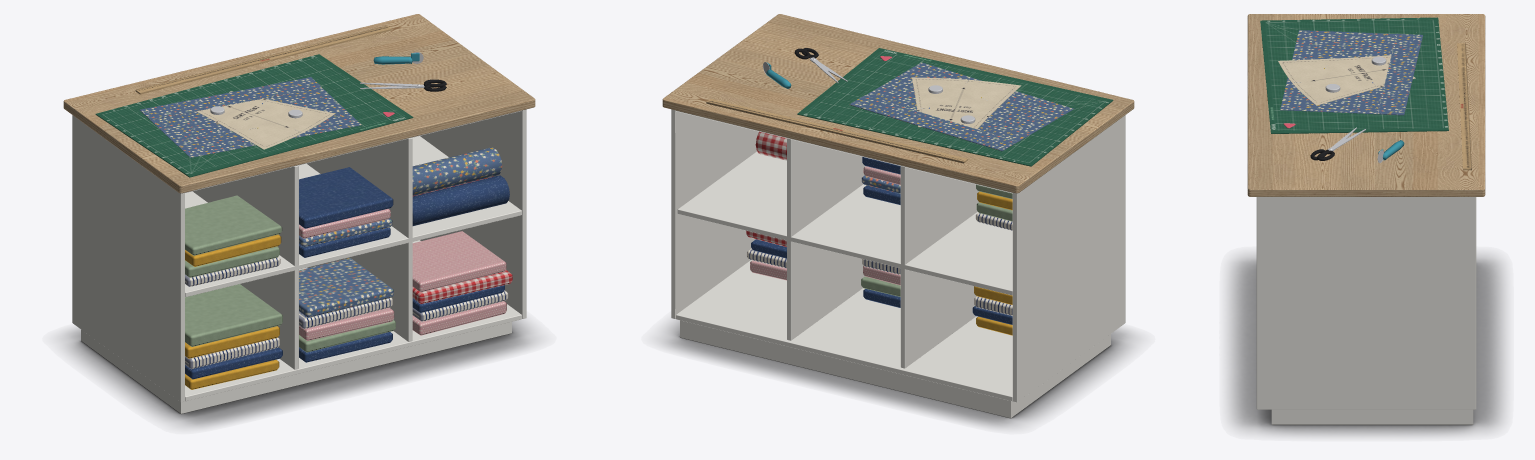
File: cutting_table.glb
The picture shows the model from 3 angles, left to right: view 1: azimuth 30°, elevation 25°; view 2: azimuth 150°, elevation 25°; view 3: azimuth 270°, elevation 25°; orthographic projection.
Visible parts, largest first — view 1: cutting_table_LOD0, cutting_table_Shadow; view 2: cutting_table_LOD0, cutting_table_Shadow; view 3: cutting_table_LOD0, cutting_table_Shadow.
Boxes of the visible parts, bbox=[...] form: cutting_table_LOD0: bbox=[63, 14, 535, 413]; cutting_table_Shadow: bbox=[63, 320, 535, 426]; cutting_table_LOD0: bbox=[662, 14, 1134, 418]; cutting_table_Shadow: bbox=[662, 320, 1133, 427]; cutting_table_LOD0: bbox=[1247, 14, 1485, 424]; cutting_table_Shadow: bbox=[1229, 255, 1504, 435].
Size of what is drawn, in the model's own units: 1.64 by 0.9455 by 1.04.
5 materials, 4 textured.
